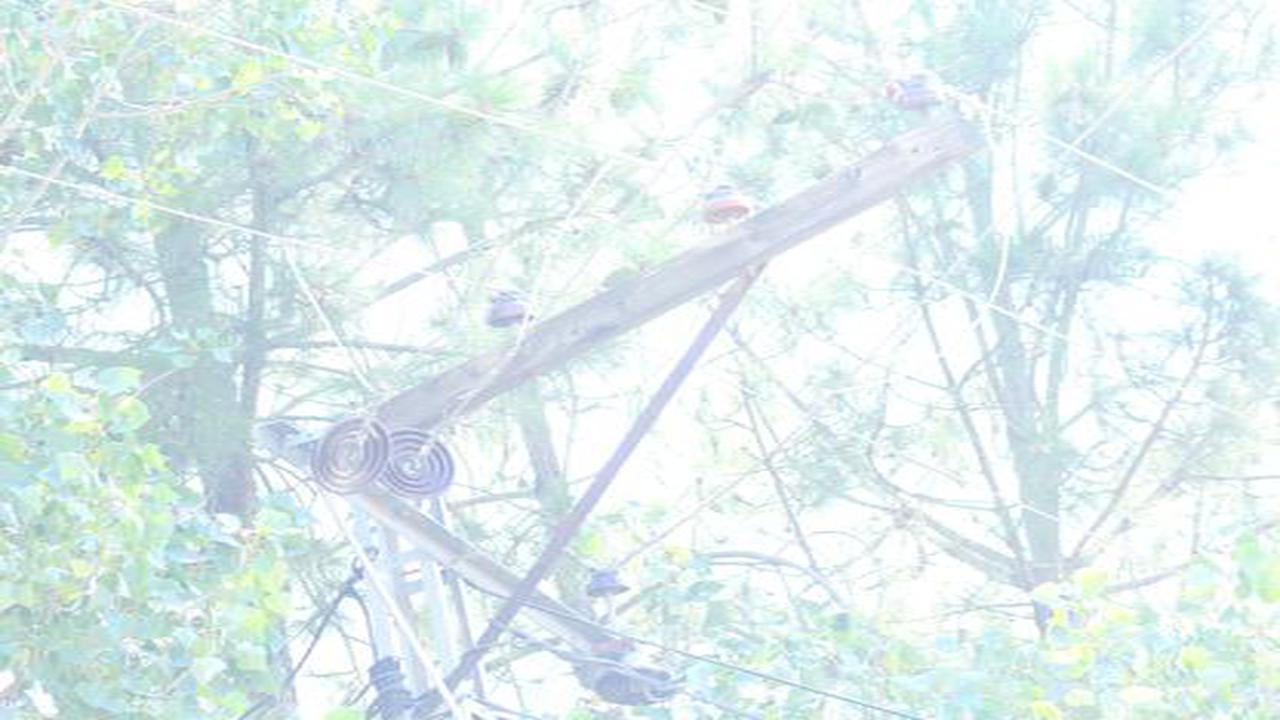insulator_disc: (311, 414, 386, 502), (384, 426, 460, 498)
insulator_pin: (699, 178, 753, 232), (480, 283, 536, 328), (582, 560, 633, 609), (895, 76, 950, 118)
